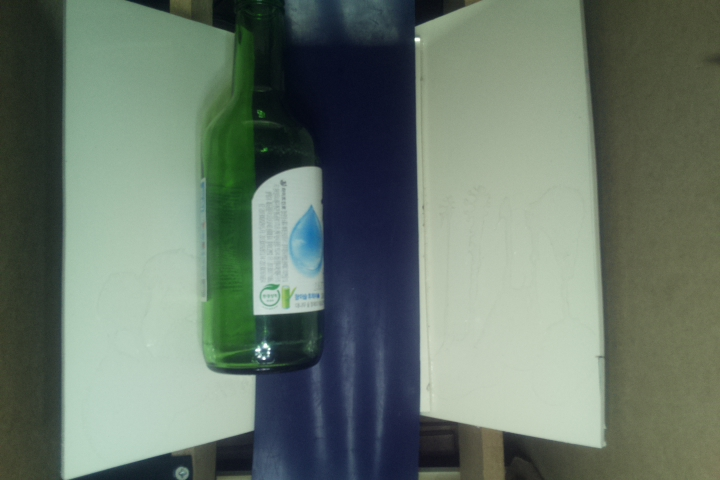soju: (201, 1, 329, 380)
